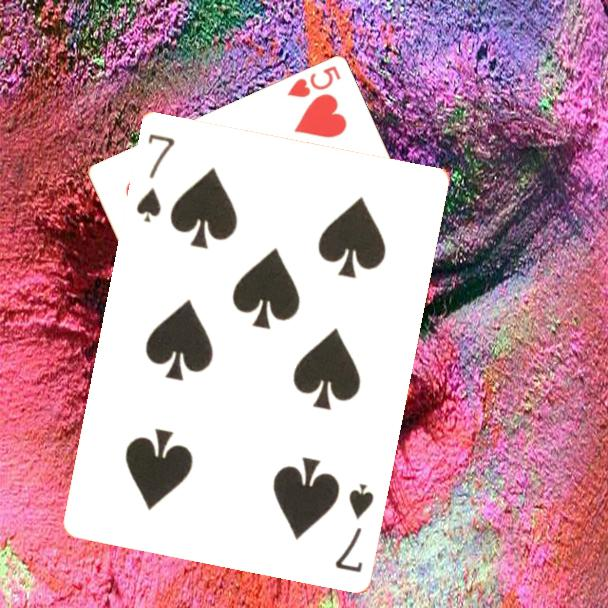h05: (283, 62, 344, 101)
s07: (331, 479, 377, 575), (132, 129, 177, 225)
